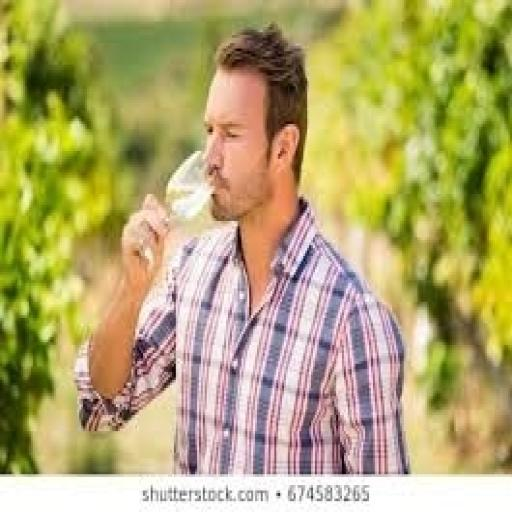drinking: (134, 148, 214, 262)
